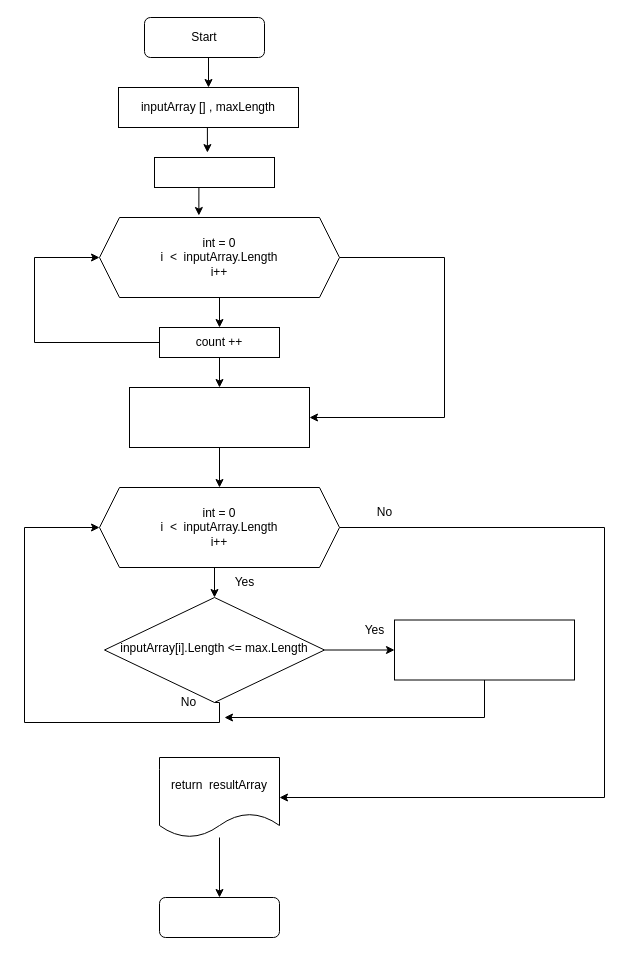
The diagram is 630 pixels wide and 955 high, and some of its shapes have lost their labels. Each missing label, with the box of its shape:
count = 0: (154, 156, 274, 188)
End: (158, 896, 280, 938)
resultArray = new string [count] resultIndex = 0: (128, 386, 310, 448)
resultArray[resultindex] = inputArray resultIndex++: (394, 619, 574, 680)
